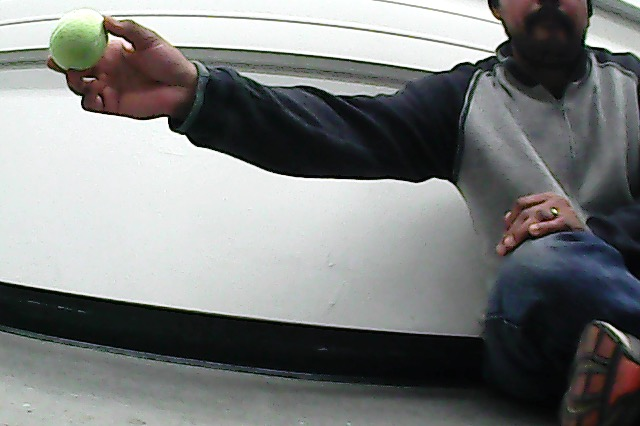ball: (48, 8, 112, 75)
